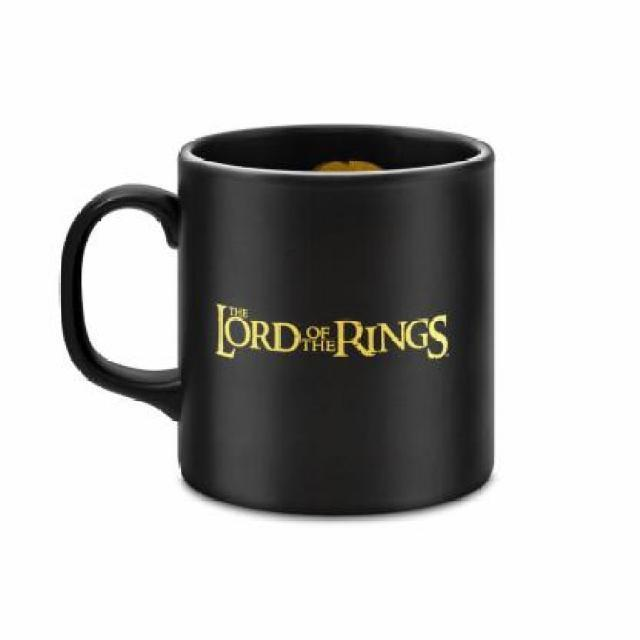taza: (61, 123, 494, 518)
